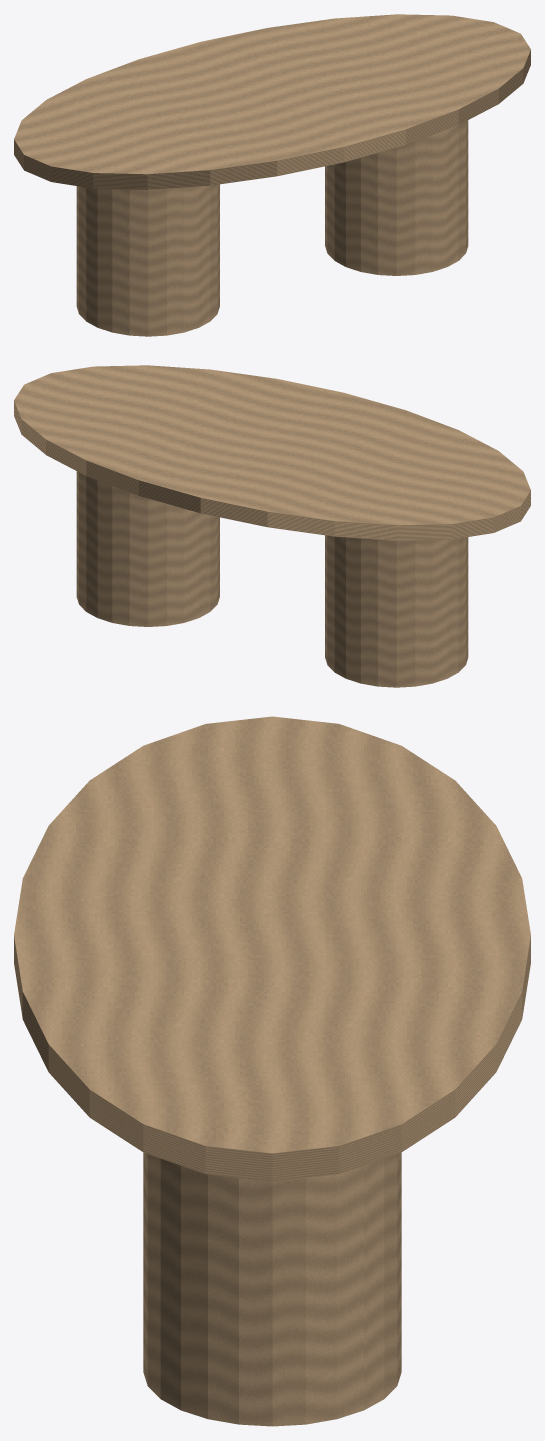
The picture shows the model from 3 angles, top to bottom: view 1: azimuth 30°, elevation 25°; view 2: azimuth 150°, elevation 25°; view 3: azimuth 270°, elevation 25°; orthographic projection. The views are drawn at different scales.
Parts seen in each view (by area): view 1: 1 tabletop, 2 left_leg, 3 right_leg; view 2: 1 tabletop, 2 left_leg, 3 right_leg; view 3: 1 tabletop, 3 right_leg.
Boxes of the visible parts, x1=… form: 1 tabletop: x1=14, y1=14, x2=530, y2=189; 2 left_leg: x1=76, y1=184, x2=219, y2=336; 3 right_leg: x1=325, y1=120, x2=468, y2=275; 1 tabletop: x1=14, y1=365, x2=530, y2=540; 2 left_leg: x1=325, y1=535, x2=468, y2=687; 3 right_leg: x1=76, y1=471, x2=219, y2=626; 1 tabletop: x1=14, y1=716, x2=530, y2=1181; 3 right_leg: x1=143, y1=1152, x2=401, y2=1426.
Size of the model in its own units: 2.86 by 1 by 1.43.
Materials: 1 (1 with a texture image).
